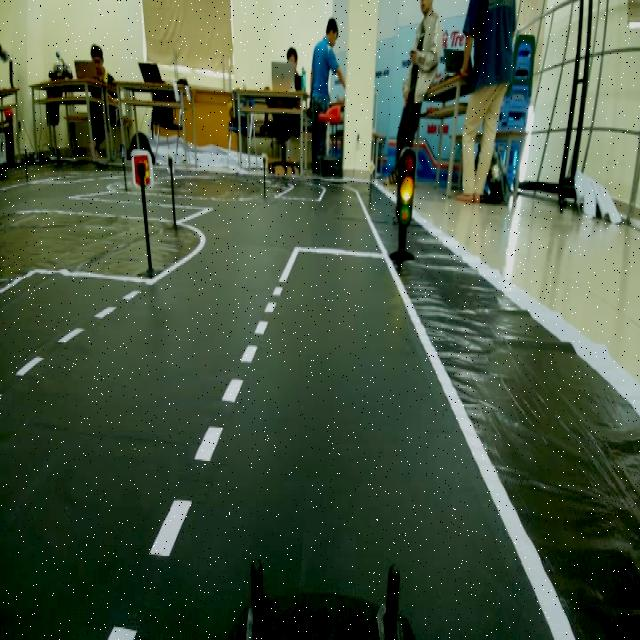trafficlight: (378, 137, 423, 275)
